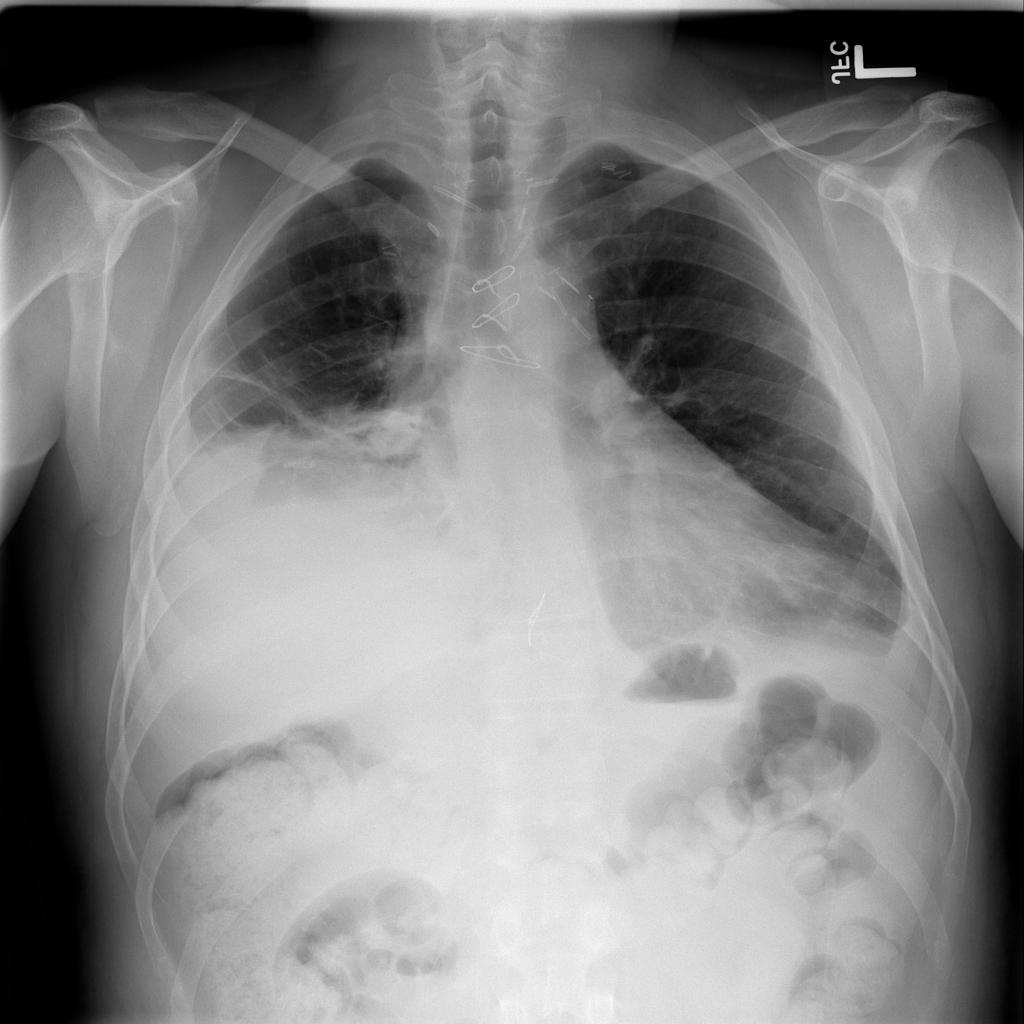nodule: (161, 422, 291, 527), (357, 395, 437, 466)
